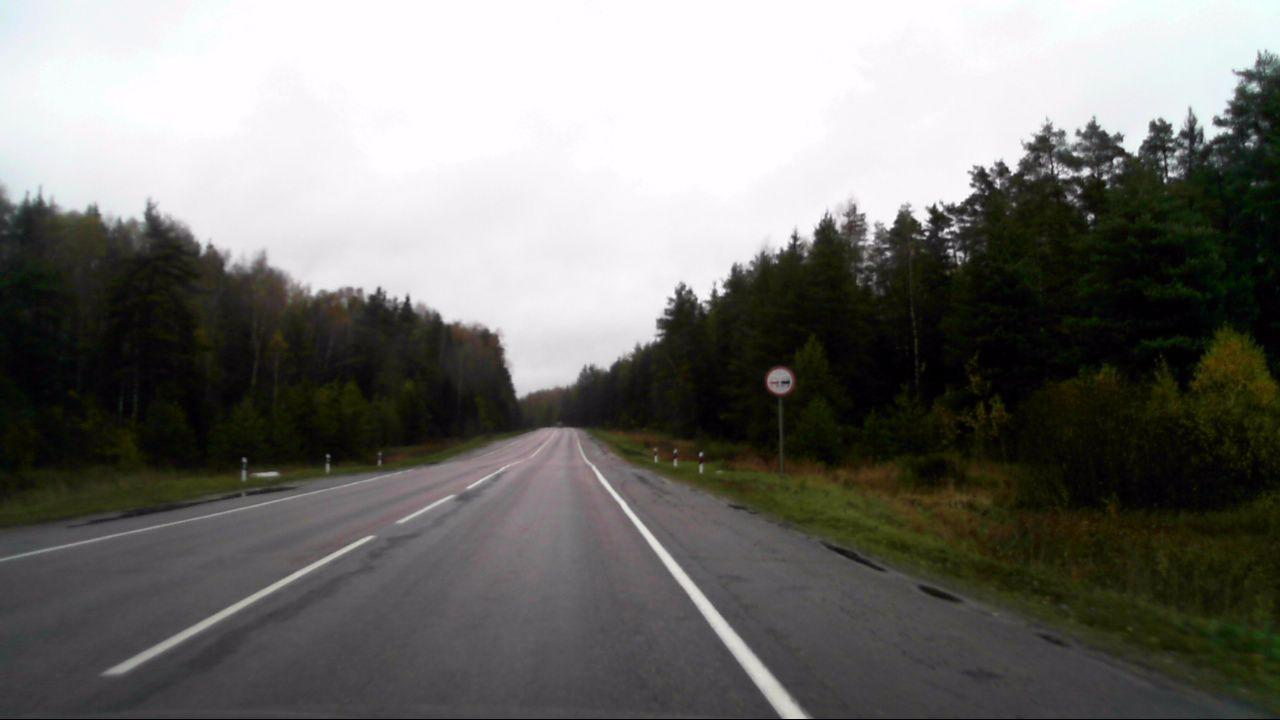3_20: (764, 366, 793, 395)
